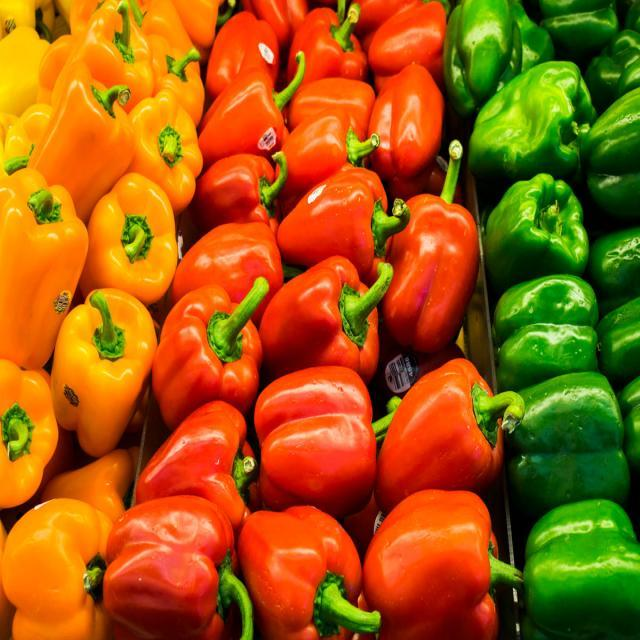bell_pepper: (385, 353, 519, 533), (108, 474, 249, 640), (240, 478, 375, 640), (255, 363, 390, 525), (387, 140, 483, 359), (379, 488, 517, 640), (266, 254, 394, 400), (510, 361, 632, 511), (459, 61, 599, 181), (526, 498, 640, 640), (157, 271, 263, 420), (53, 286, 148, 450), (280, 164, 411, 276), (141, 397, 257, 517), (491, 168, 597, 286), (35, 75, 127, 207), (177, 219, 287, 319), (493, 280, 606, 377), (197, 50, 293, 161), (96, 171, 175, 299), (197, 146, 283, 241)
